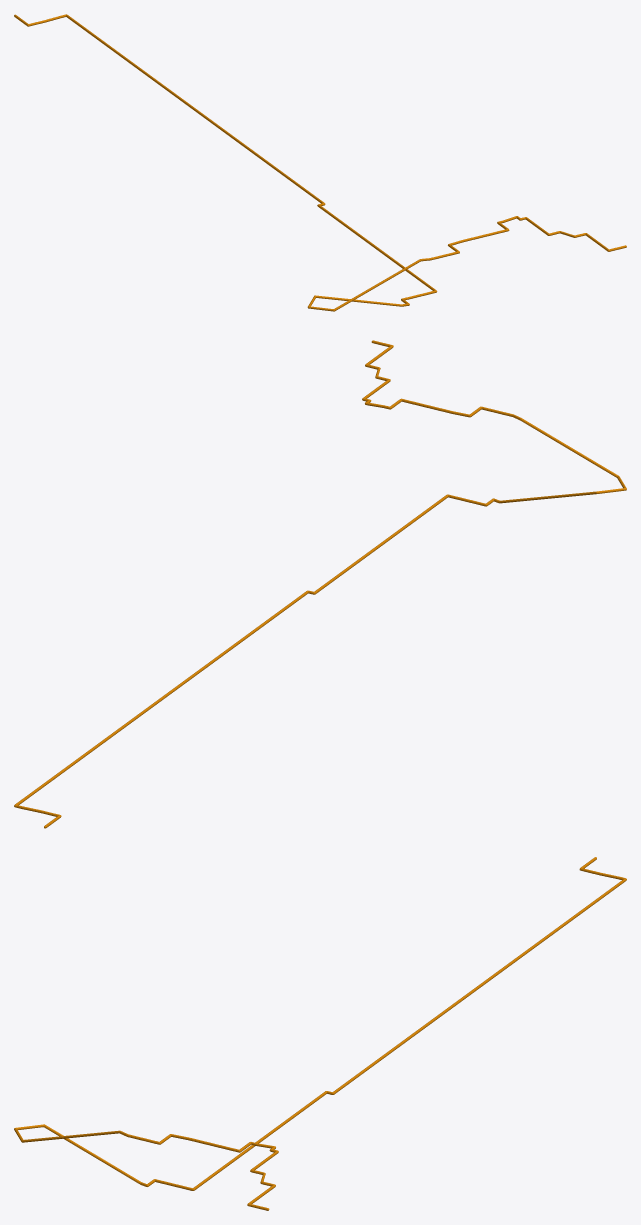
The picture shows the model from 3 angles, top to bottom: view 1: azimuth 30°, elevation 25°; view 2: azimuth 150°, elevation 25°; view 3: azimuth 330°, elevation 25°; orthographic projection. The views are drawn at different scales.
Bounding box in the file's own units: 2406 × 520 × 6911.
